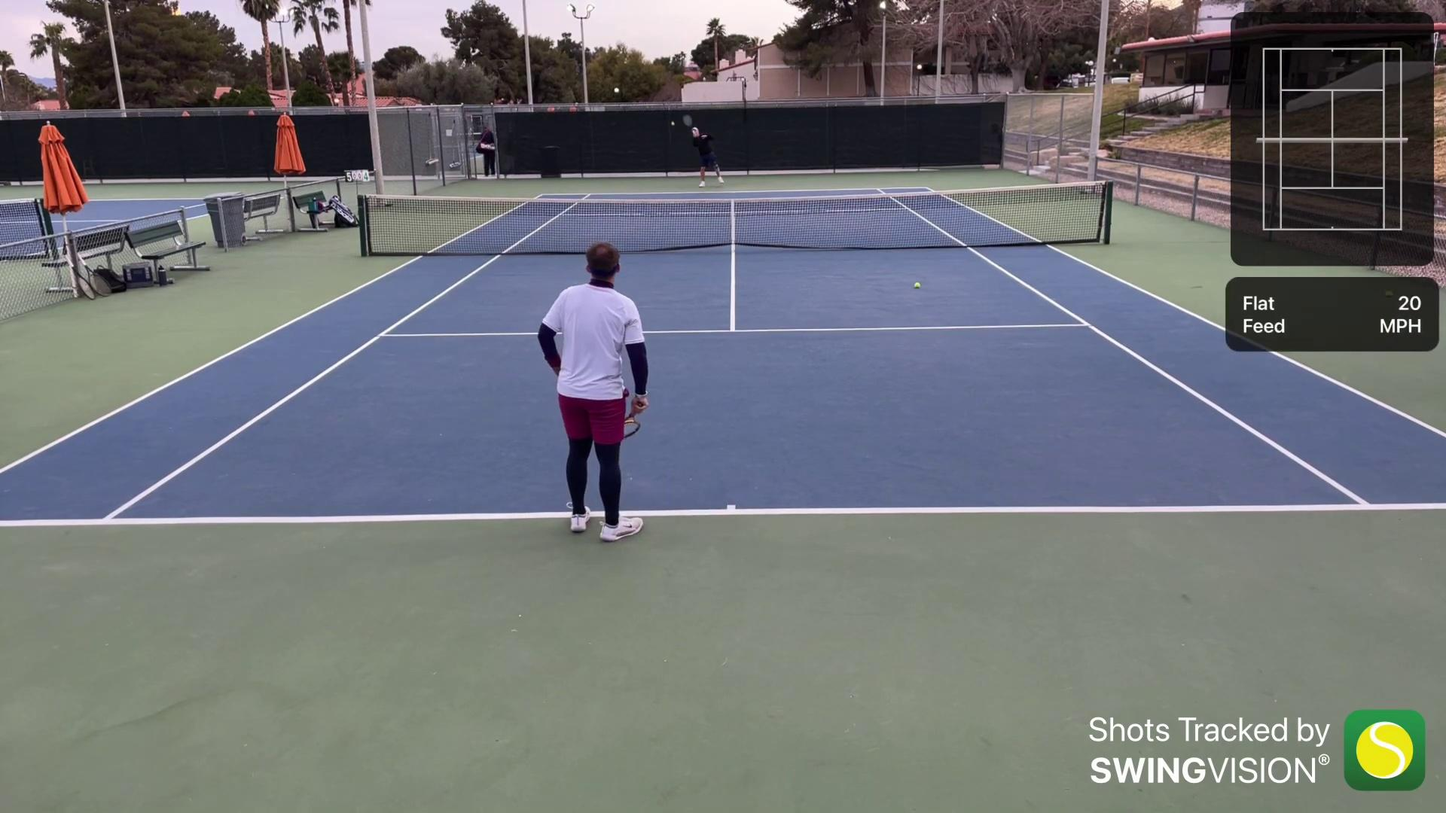ball: (912, 279, 921, 291), (670, 119, 676, 125)
